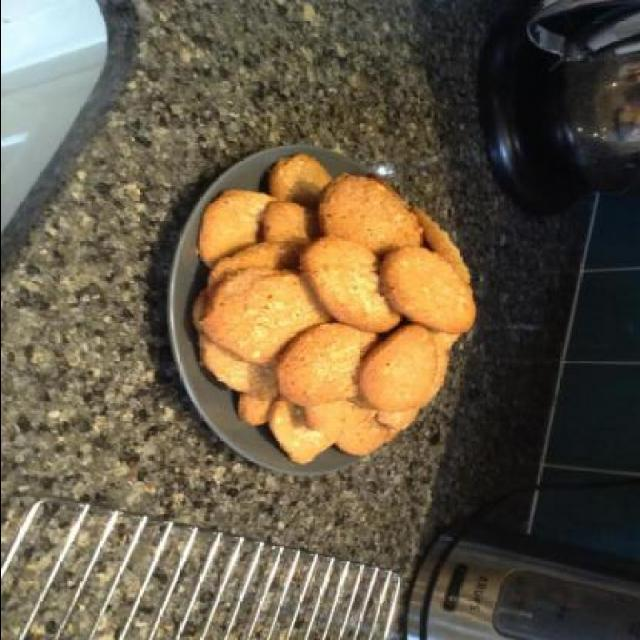Cookie: (190, 152, 482, 468)
